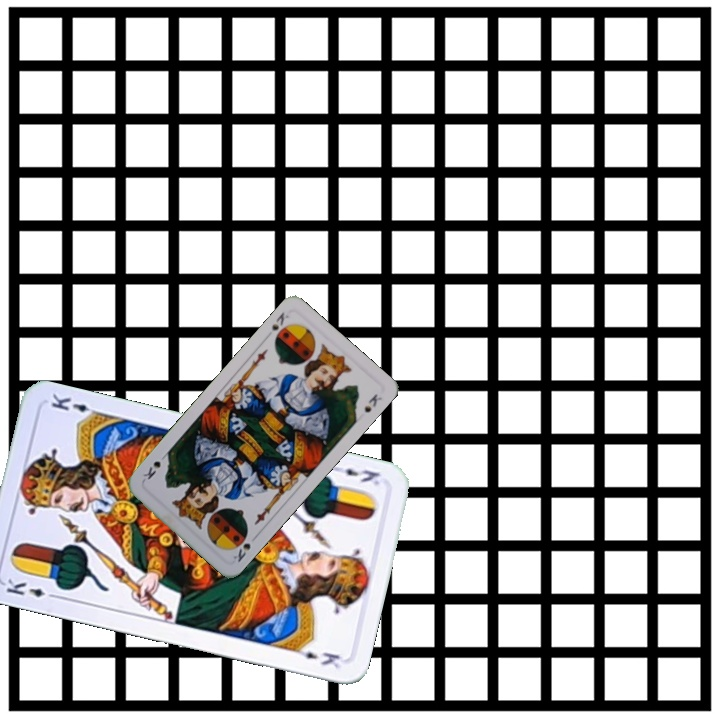EK: (2, 575, 61, 602), (327, 461, 382, 488)
SK: (229, 531, 260, 565), (267, 308, 292, 334)
